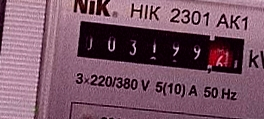0: (80, 30, 94, 52), (103, 32, 117, 52)
1: (147, 35, 159, 54)
3: (125, 36, 137, 56)
6: (214, 51, 225, 68)
9: (168, 37, 181, 58), (189, 41, 201, 60)
screen: (68, 15, 253, 82)
